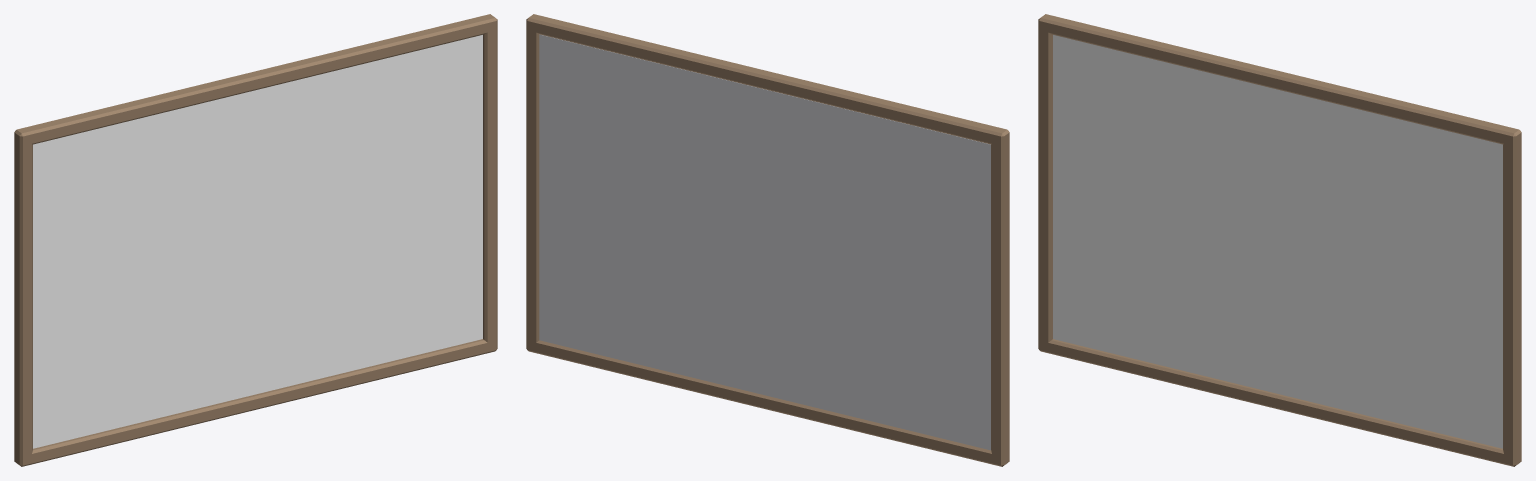
File: pintura_parede.obj
The picture shows the model from 3 angles, left to right: view 1: azimuth 30°, elevation 25°; view 2: azimuth 150°, elevation 25°; view 3: azimuth 330°, elevation 25°; orthographic projection.
Visible parts, largest first — view 1: pintura_parede; view 2: pintura_parede; view 3: pintura_parede.
Boxes of the visible parts, <box> form: pintura_parede: <box>14,14,497,466</box>; pintura_parede: <box>526,14,1009,466</box>; pintura_parede: <box>1038,14,1521,466</box>.
Size of the model in its own units: 0.9 by 0.6 by 0.025.
